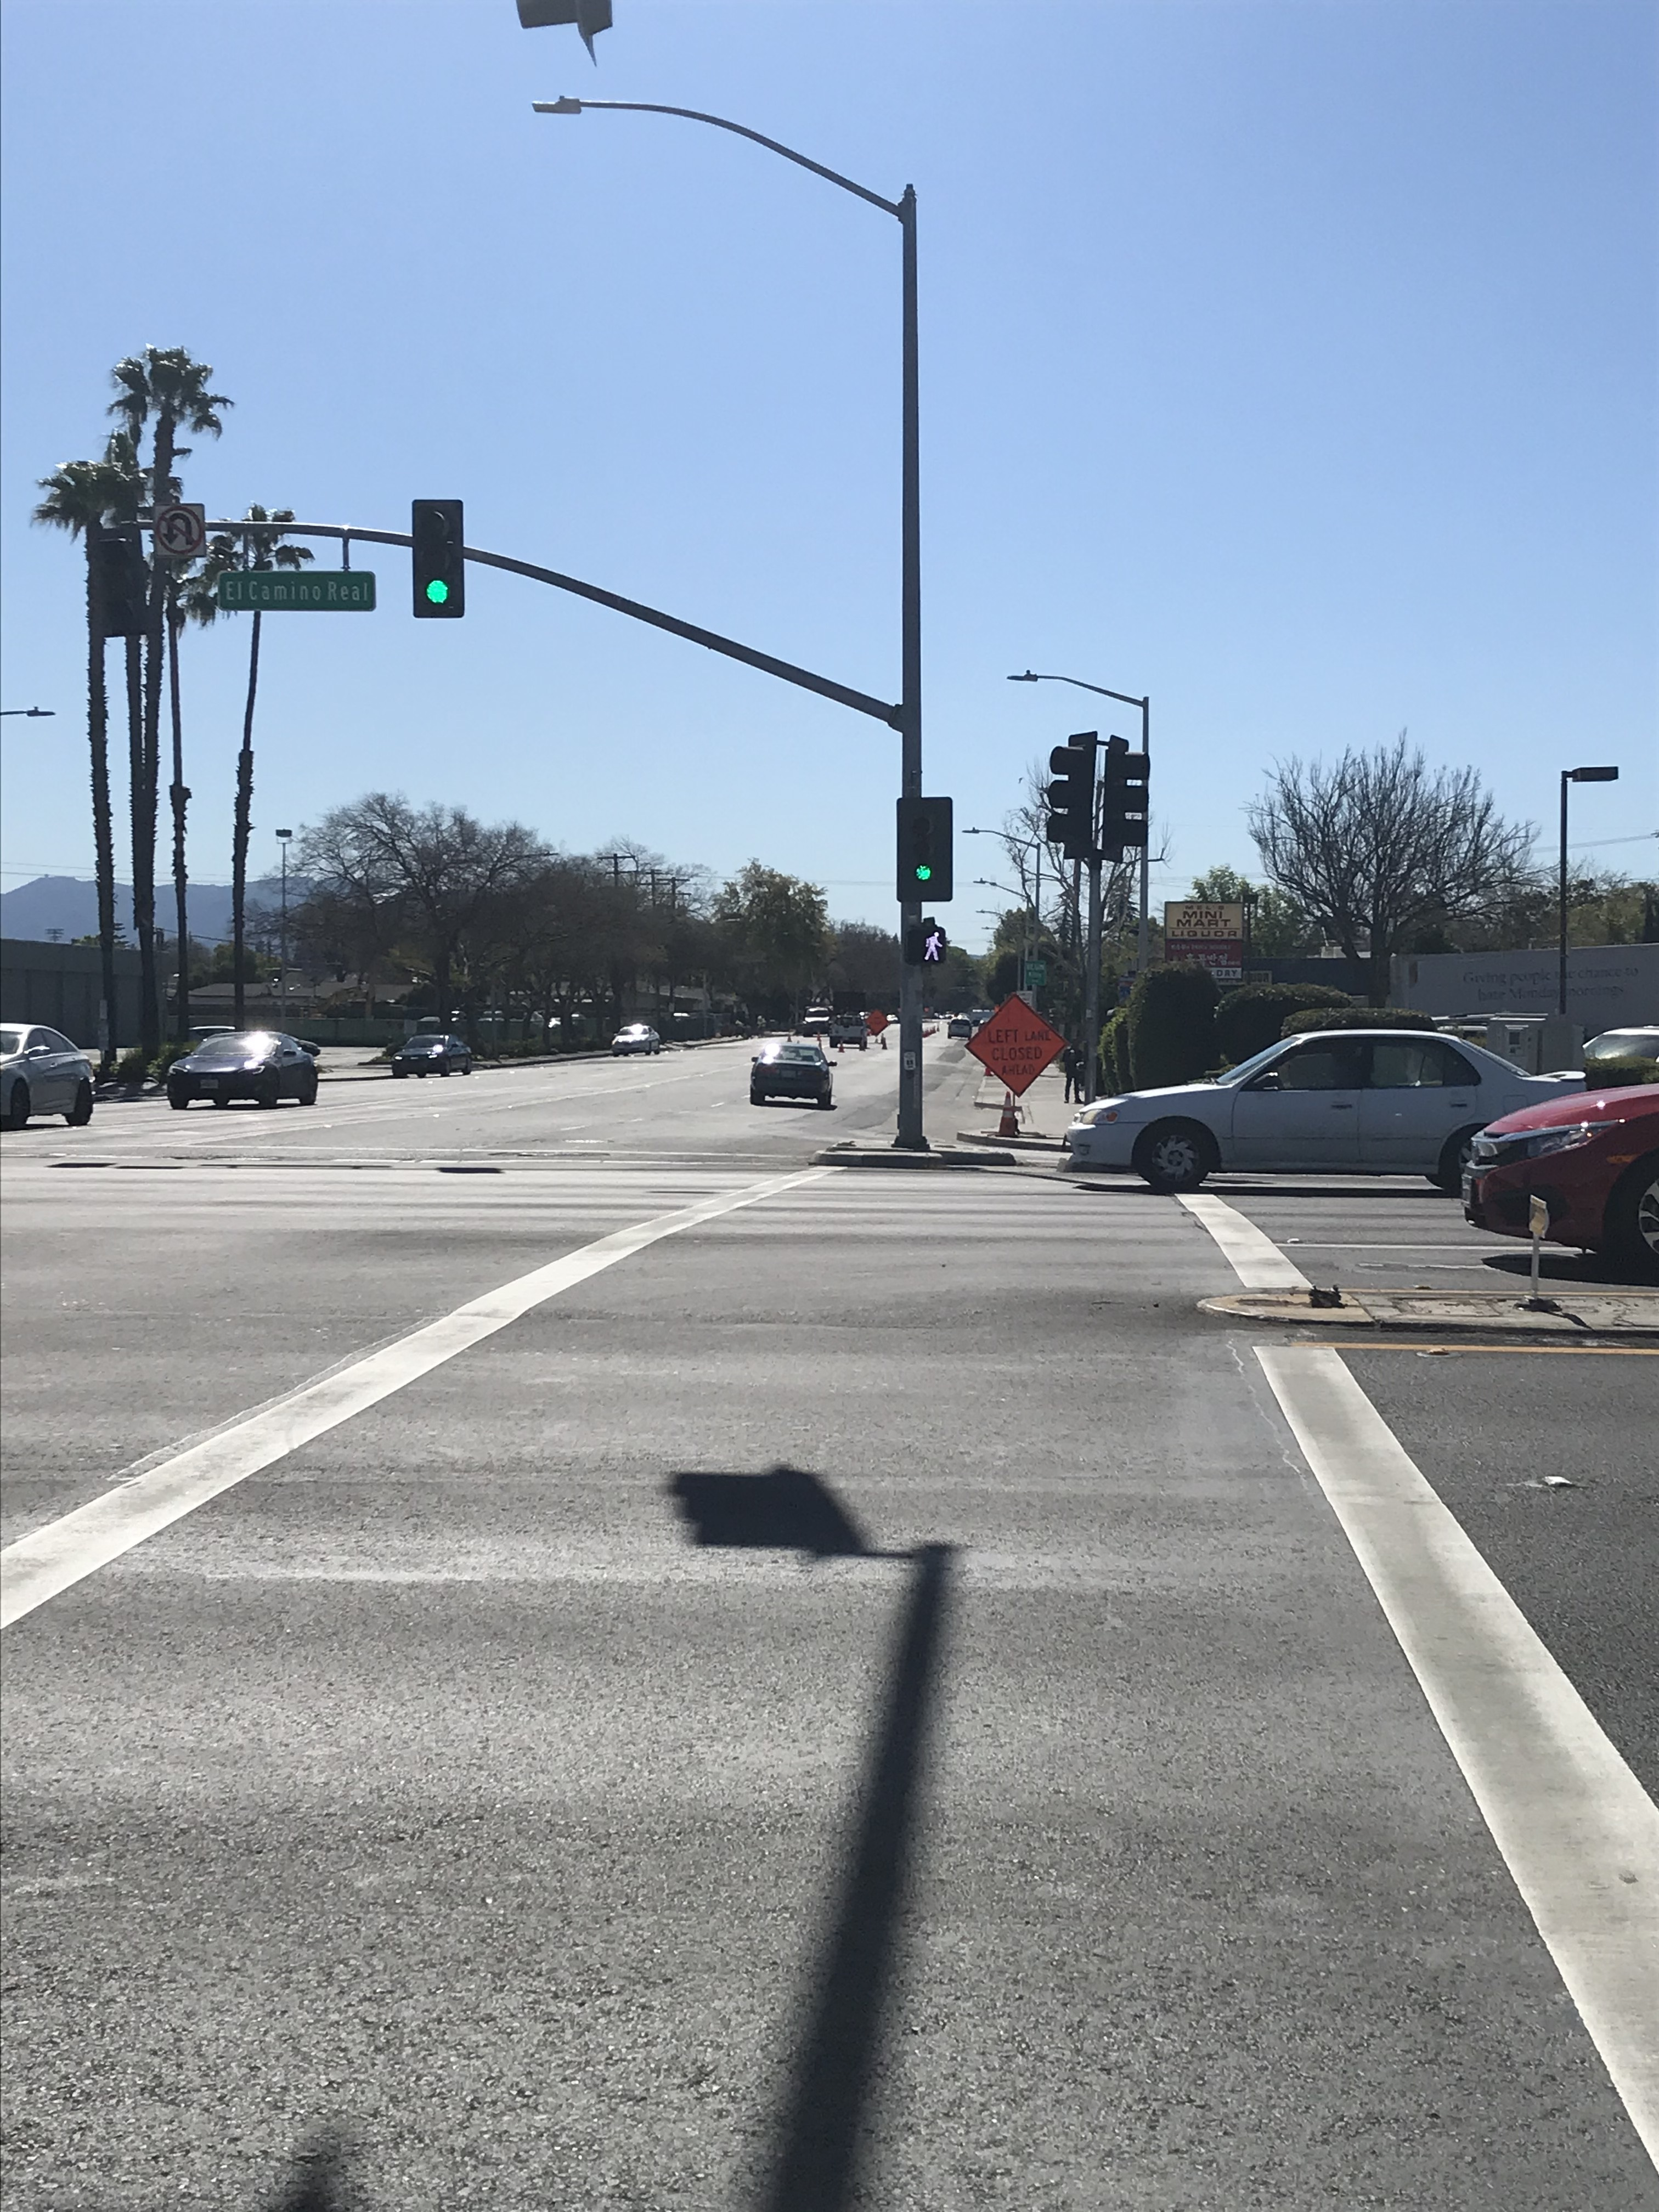green_light: (415, 502, 462, 617), (899, 798, 946, 897)
